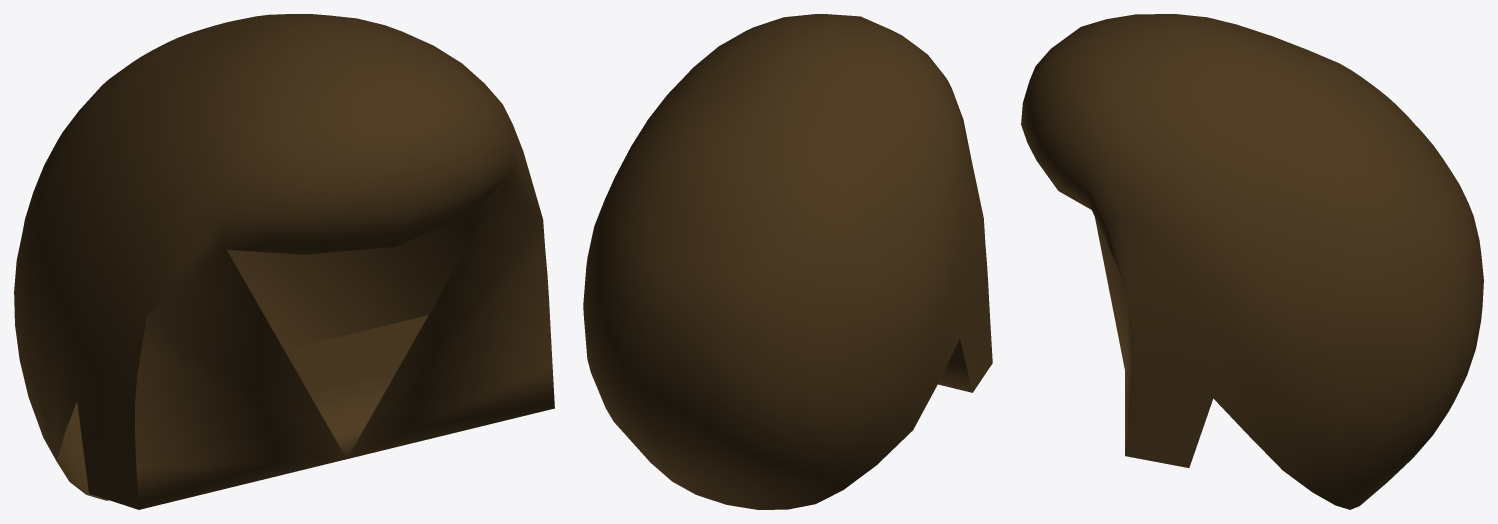
Rendered from hair_078.gltf.
The picture shows the model from 3 angles, left to right: view 1: azimuth 30°, elevation 25°; view 2: azimuth 150°, elevation 25°; view 3: azimuth 270°, elevation 25°; orthographic projection. The views are drawn at different scales.
Visible parts, largest first — view 1: hair.134; view 2: hair.134; view 3: hair.134.
Part boxes in pixels (left/top/right/bottom): hair.134: left=14, top=14, right=554, bottom=509; hair.134: left=583, top=14, right=992, bottom=509; hair.134: left=1021, top=14, right=1483, bottom=509.
Size of the model in its own units: 0.1022 by 0.1192 by 0.1107.
